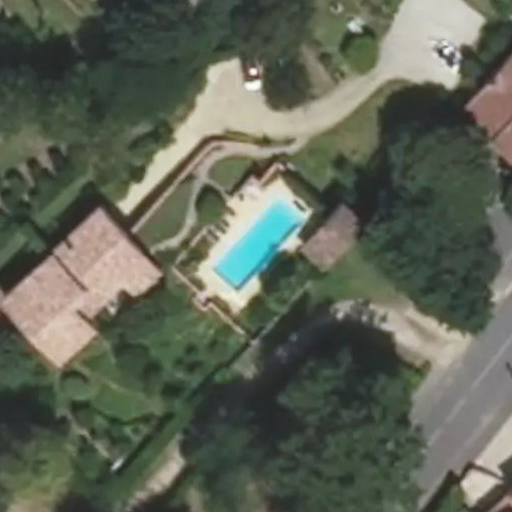pool: (211, 197, 303, 291)
